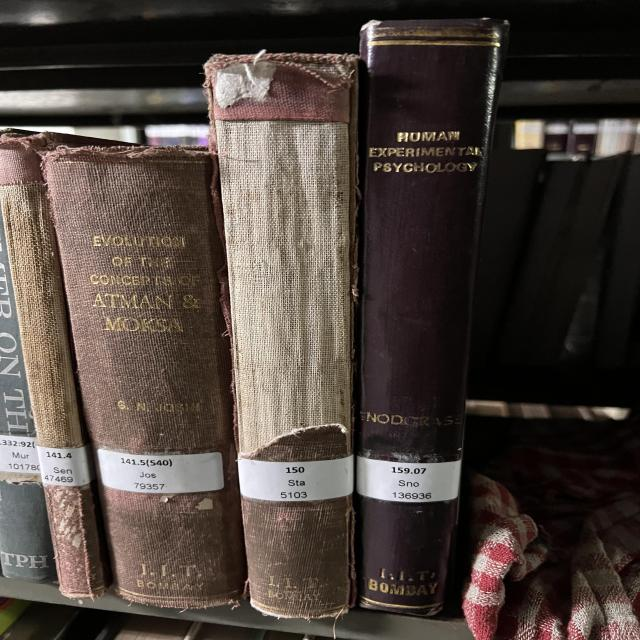Book: (43, 148, 247, 609), (355, 19, 508, 615), (205, 54, 357, 619), (0, 134, 108, 598), (0, 212, 57, 582)
Label: (97, 449, 223, 494), (238, 455, 353, 501), (357, 456, 462, 502), (37, 446, 92, 486), (0, 435, 40, 474)
